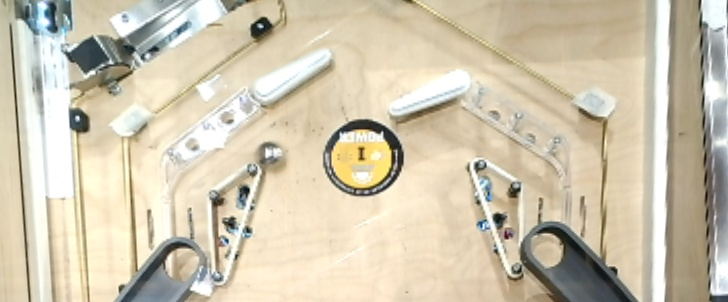ball: (255, 141, 287, 173)
flipper-left: (385, 65, 473, 123)
flipper-right: (251, 45, 336, 107)
